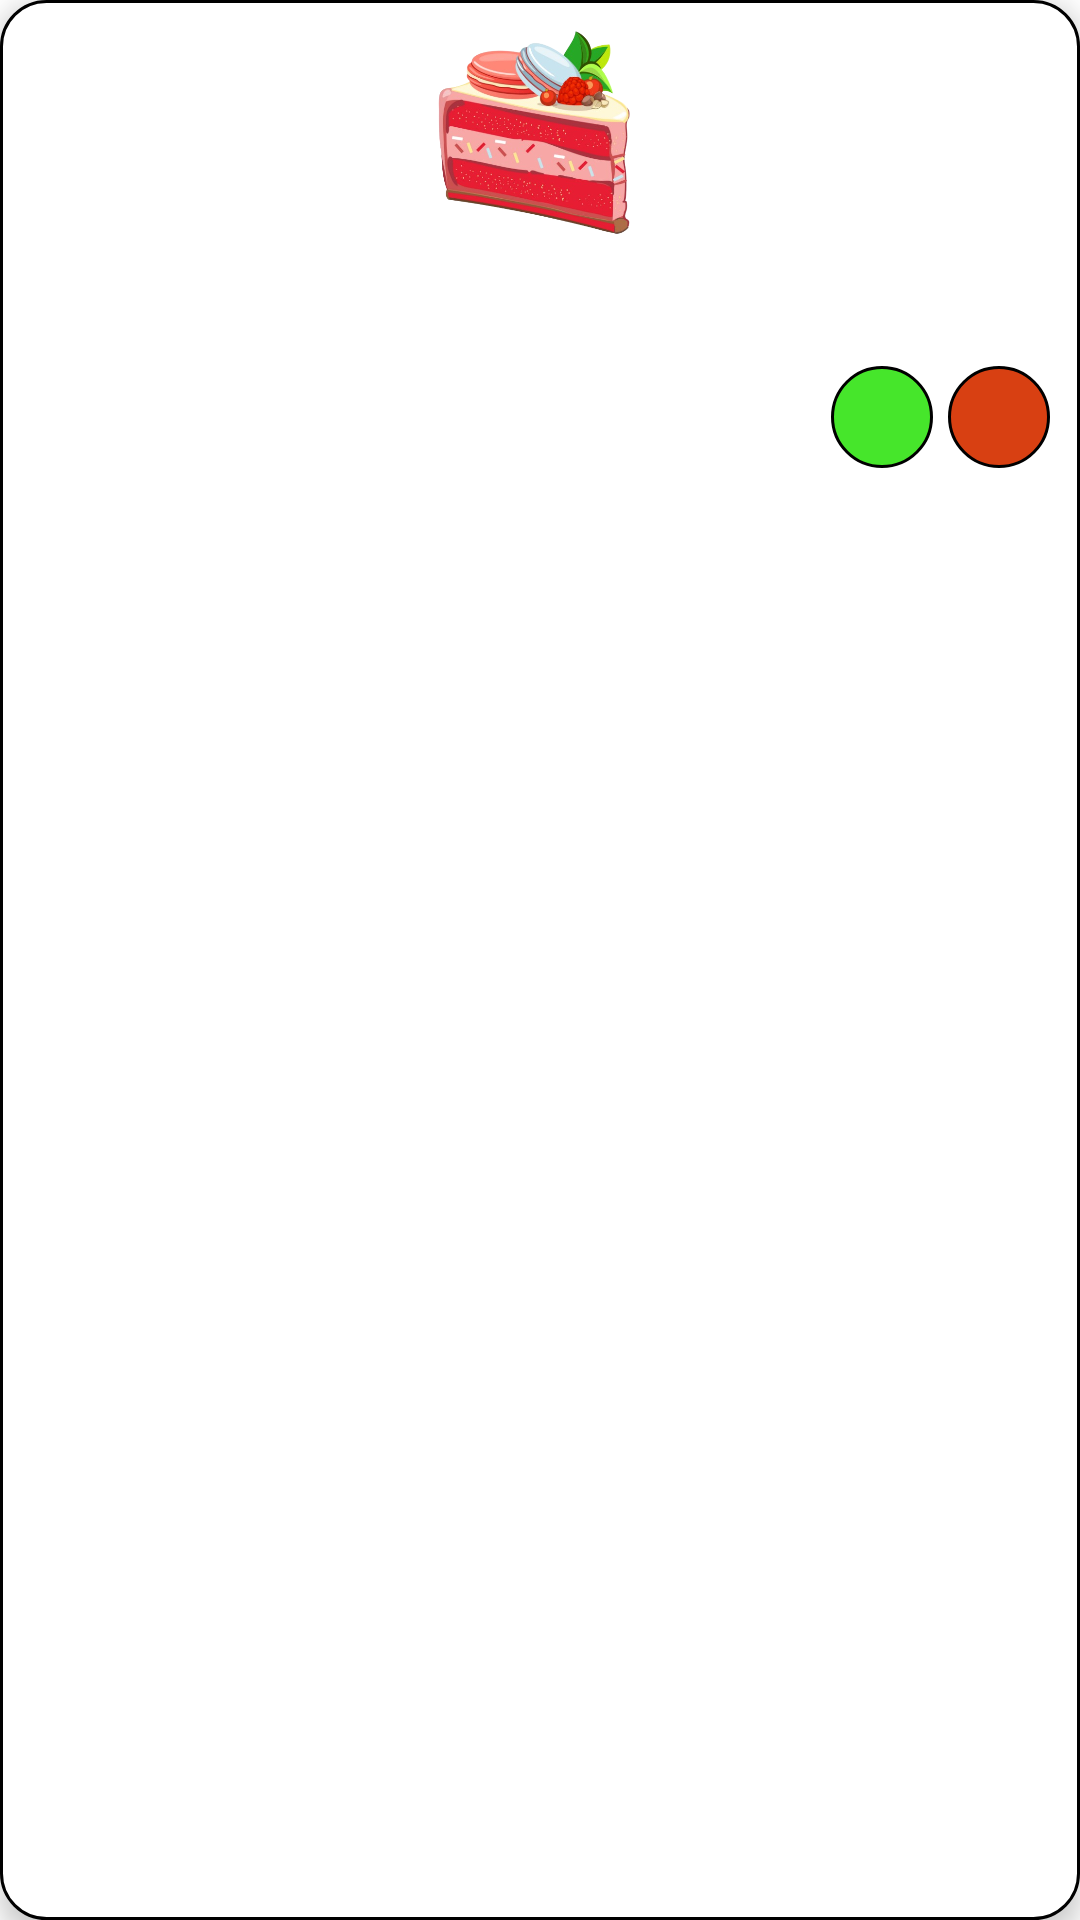

Screen size 1080 × 1920. Icon name, then its center in pixels as point (x, y):
patesry: point (534, 132)
